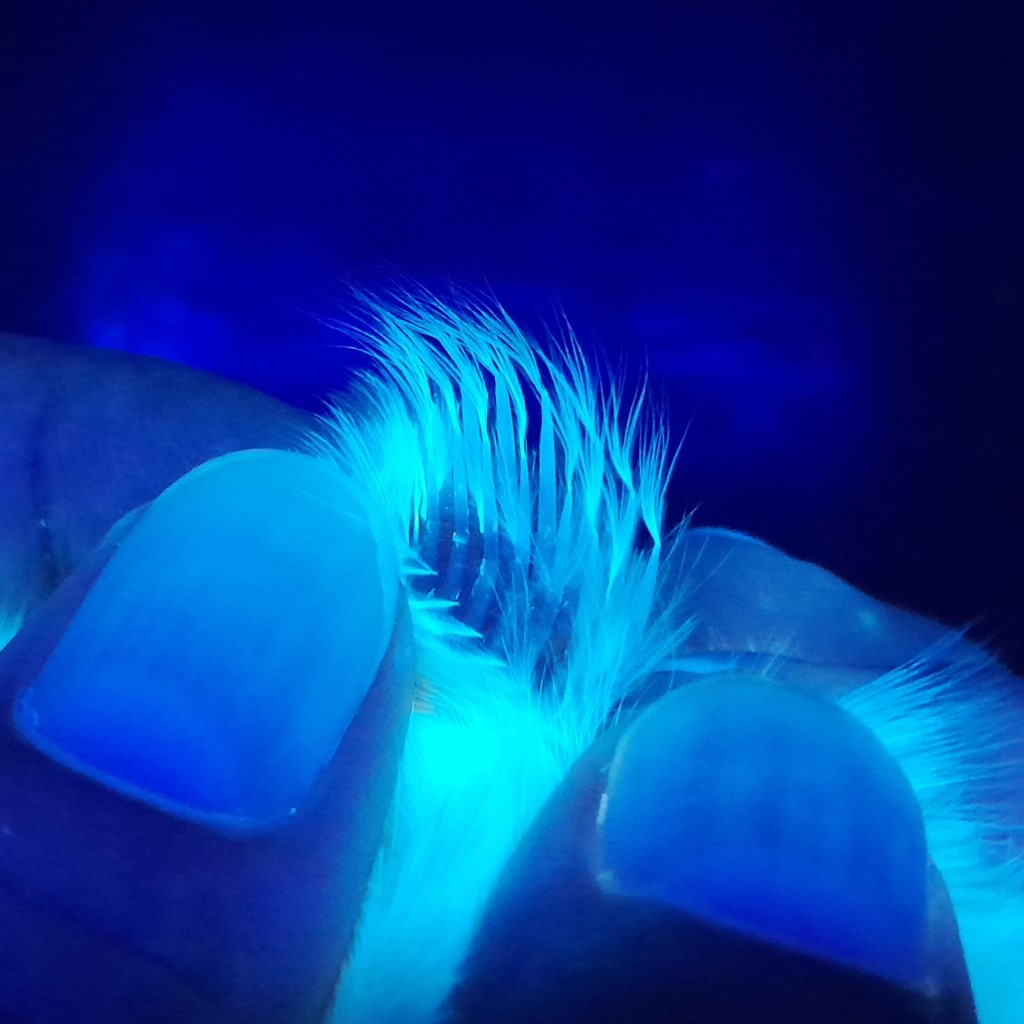female: (392, 355, 679, 763)
